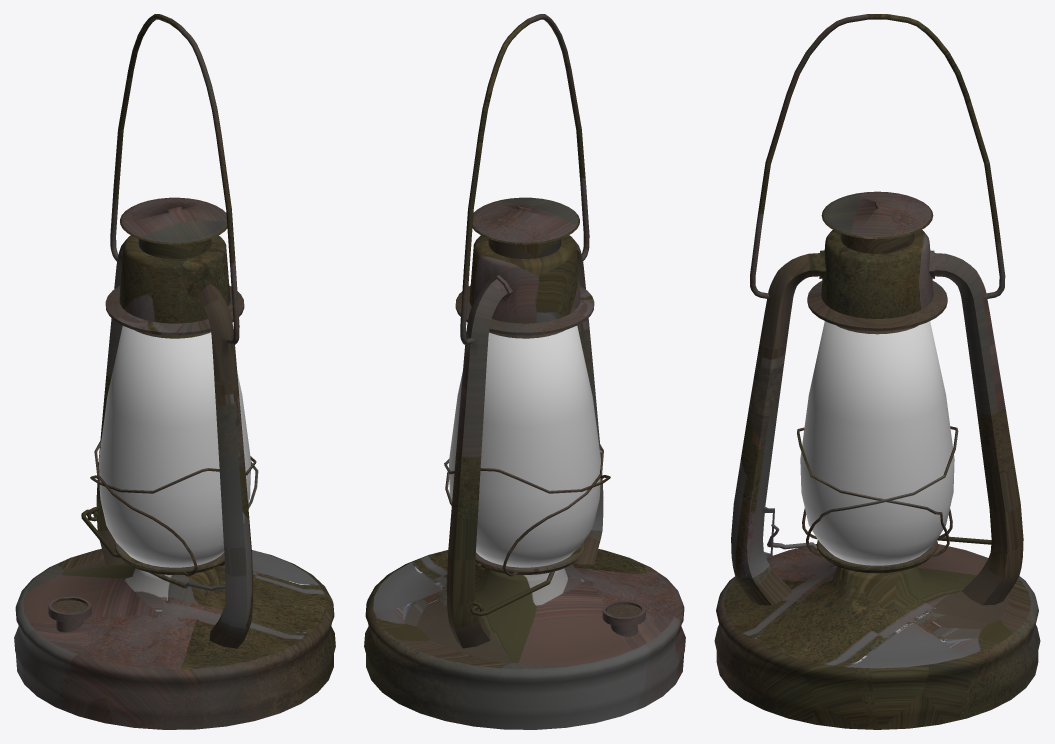
Rendered from Lampara.dae.
3 renders of one model, left to right at view 1: azimuth 30°, elevation 25°; view 2: azimuth 150°, elevation 25°; view 3: azimuth 270°, elevation 25°, orthographic.
Visible parts, largest first — view 1: Lampara, C; view 2: Lampara, C; view 3: Lampara, C.
Boxes of the visible parts, bbox=[...] form: Lampara: bbox=[14, 14, 335, 729]; C: bbox=[99, 326, 250, 567]; Lampara: bbox=[364, 14, 685, 729]; C: bbox=[449, 326, 600, 567]; Lampara: bbox=[714, 14, 1040, 729]; C: bbox=[800, 321, 954, 565].
Size of the model in its own units: 2.03 by 2.03 by 4.44.
